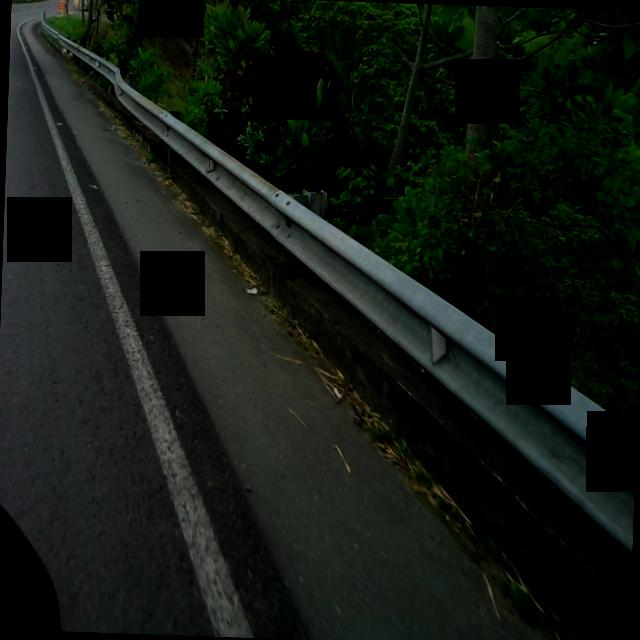DITCH: (3, 7, 640, 640), (0, 126, 640, 640)
